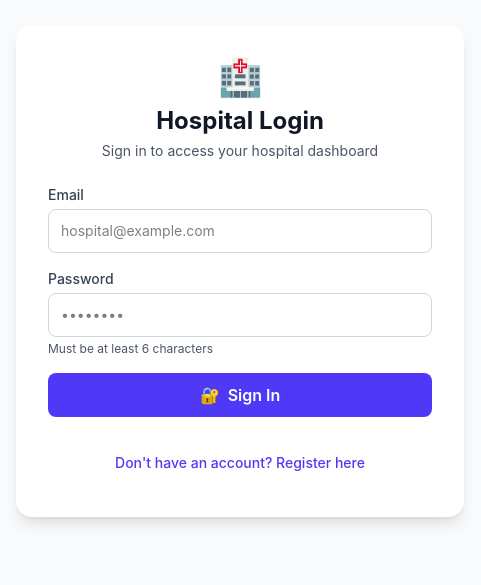
Test: HospitalAuth › toggles back to login from register
What coordinates should you click on to do the following:
click the button "Don't have an account? Register here"
I would click on:
 (240, 463)
Its box is 115,441 -> 365,485.
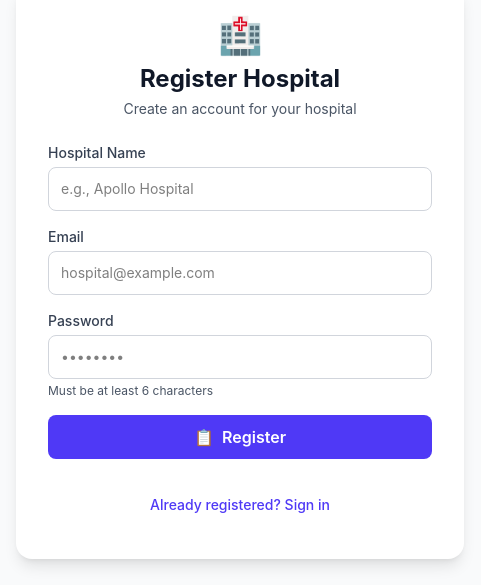
What coordinates should you click on to do the following:
click the button "Already registered? Sign in"
I would click on:
 (240, 505)
Its box is 150,483 -> 330,527.
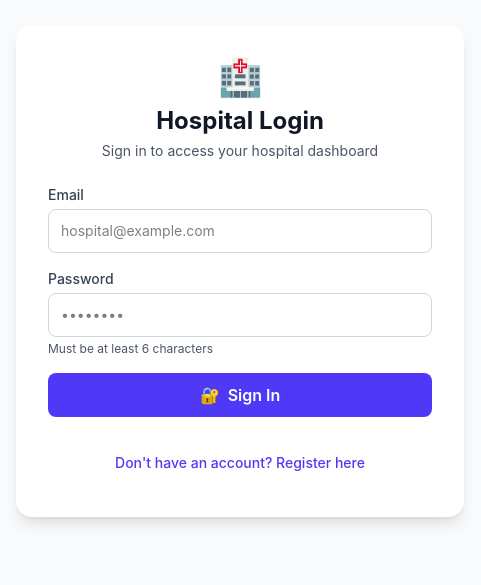
Result: the heading "Hospital Login" is shown at 156,106 -> 324,135
